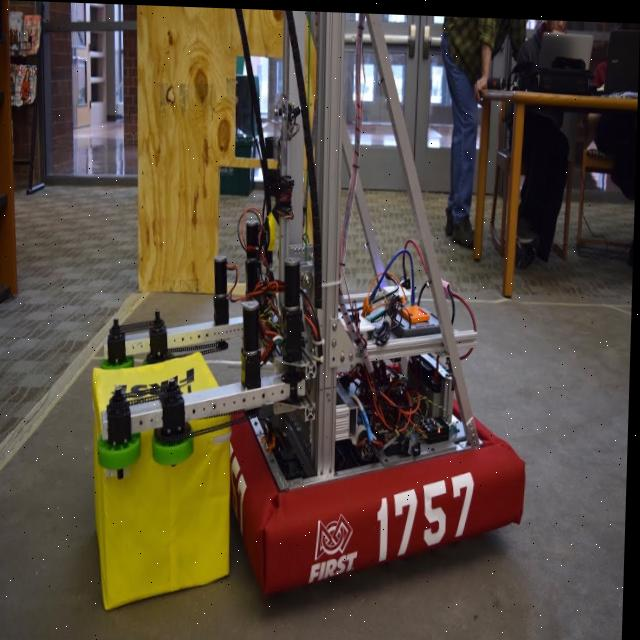robot: (100, 6, 540, 594)
